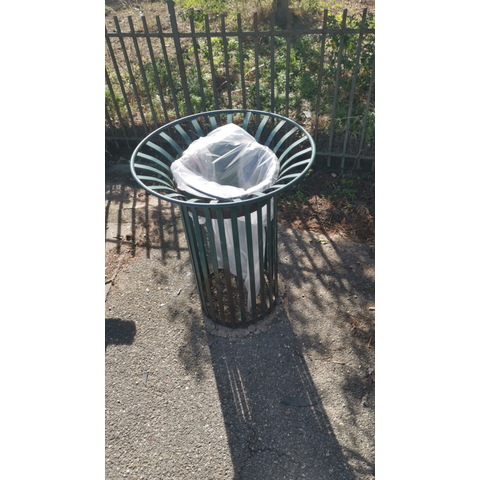poubelle: (130, 106, 325, 325)
